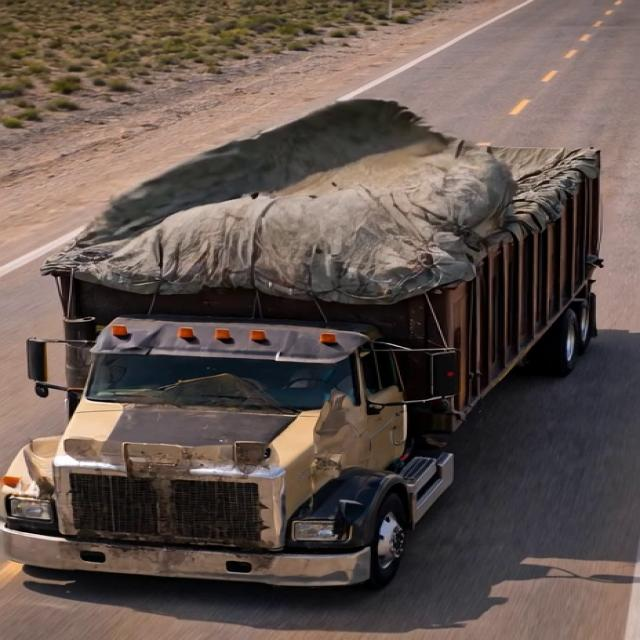Box: (43, 100, 614, 294)
Truck: (9, 76, 634, 598)
